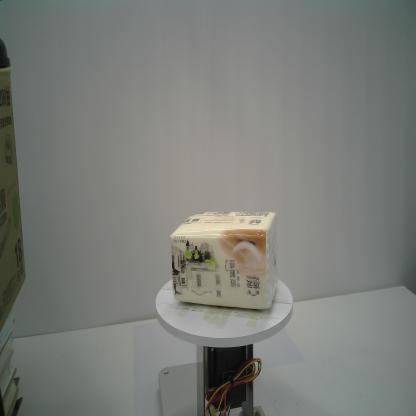Tissue: (170, 211, 281, 310)
